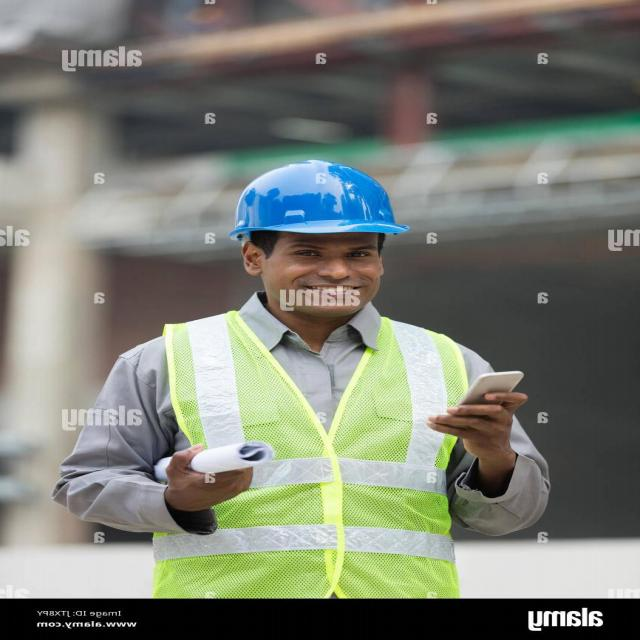Reflective-Jacket: (141, 310, 474, 598)
Safety-Helmet: (220, 158, 410, 242)
